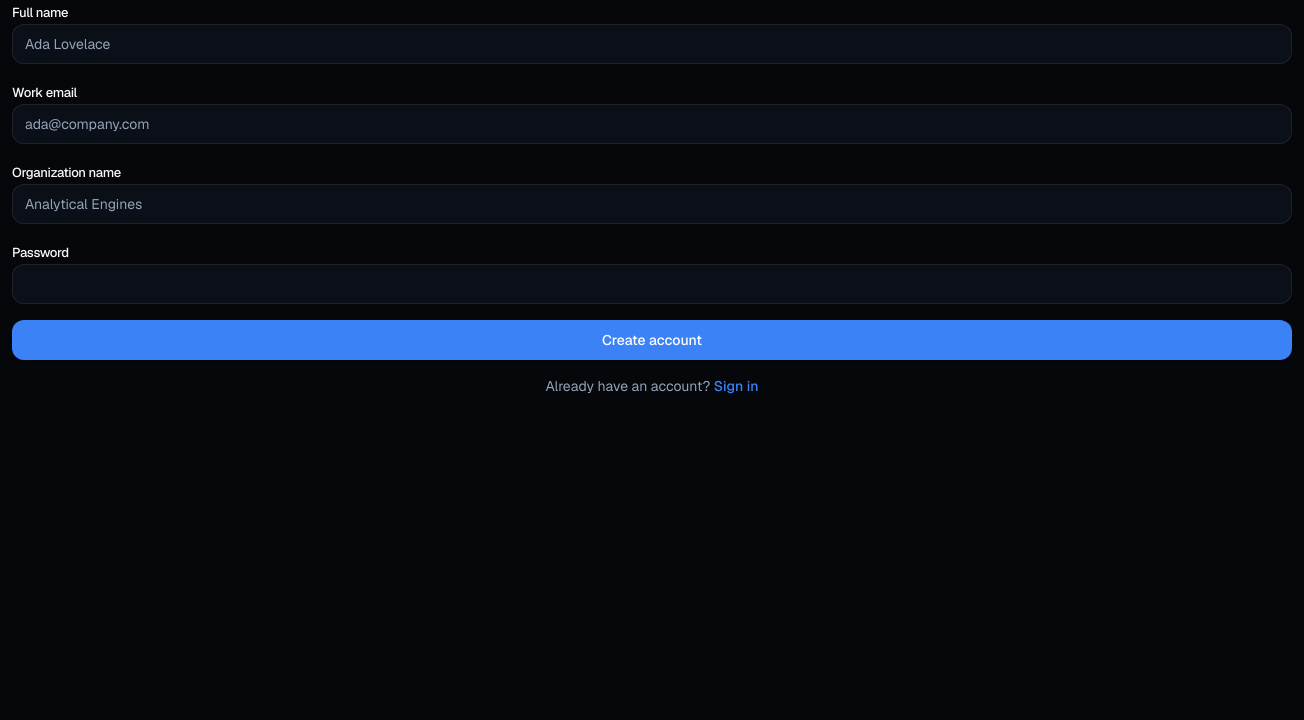
Test: RegisterForm › rejects an invalid email address
Type "not-an-email" into the field labelled "Work email" at (652, 124), box [12,104,1292,144]
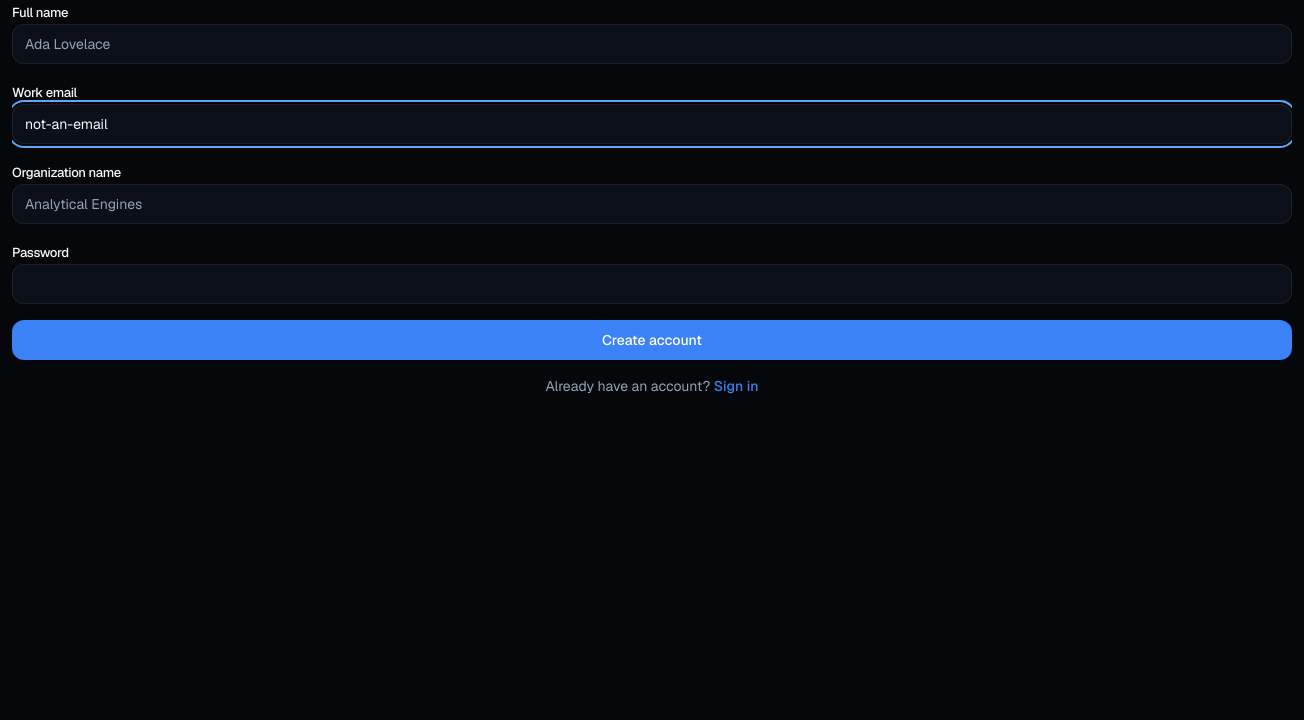
Click the button "Create account" at (652, 340), box [12,320,1292,360]
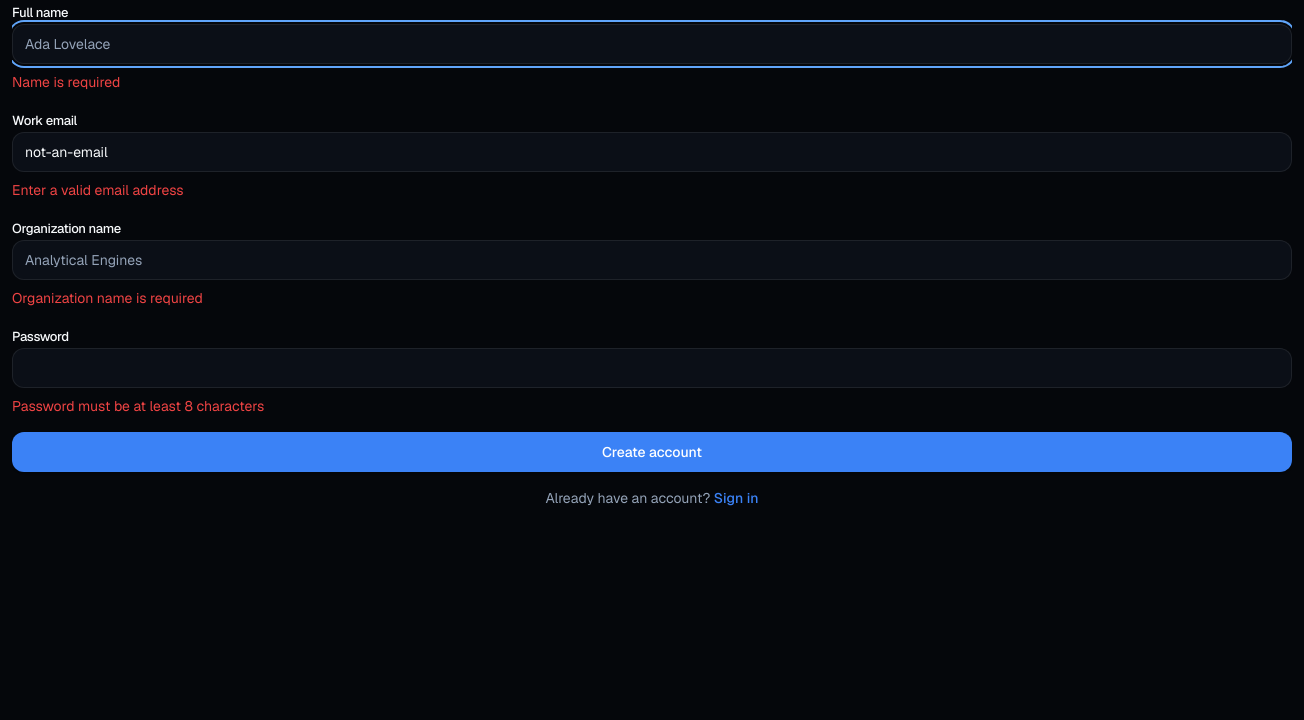
Expected: the text "Enter a valid email address" is shown, [12,181,184,199]
